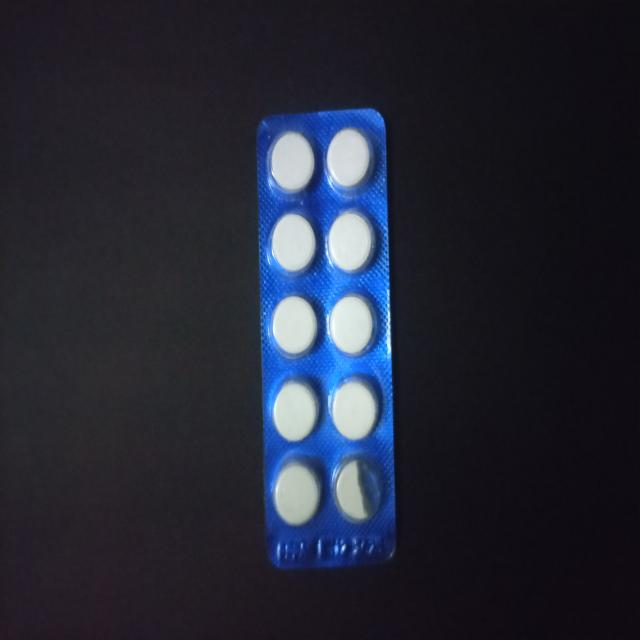defect: (330, 451, 387, 529)
